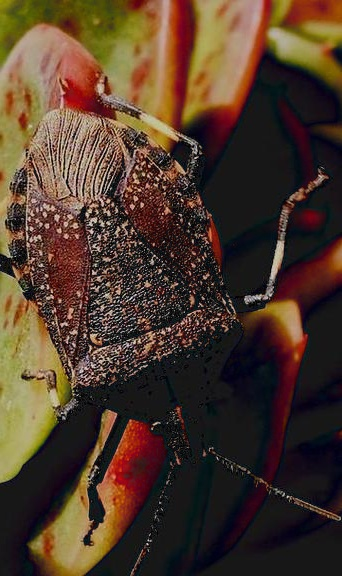Stink_Bug: (67, 85, 235, 461)
